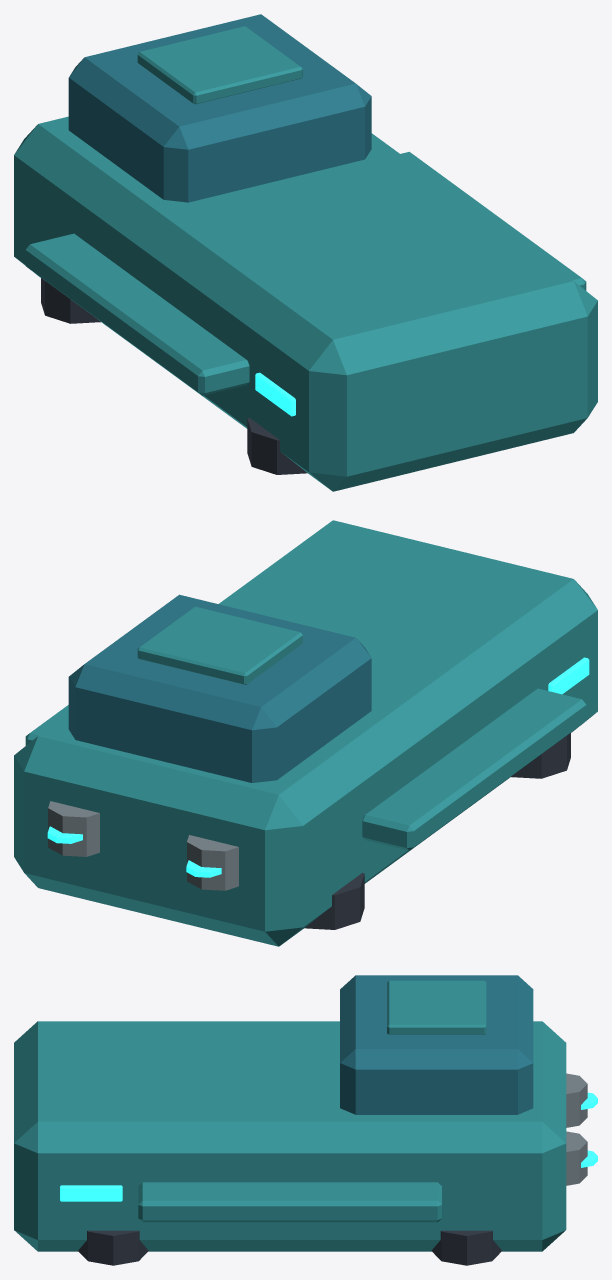
File: vehicles_032_seed11.glb
3 renders of one model, top to bottom at view 1: azimuth 30°, elevation 25°; view 2: azimuth 150°, elevation 25°; view 3: azimuth 270°, elevation 25°, orthographic. The views are drawn at different scales.
Parts seen in each view (by area): view 1: vehicles_032_seed11; view 2: vehicles_032_seed11; view 3: vehicles_032_seed11.
Boxes of the visible parts, bbox=[...] form: vehicles_032_seed11: bbox=[14, 14, 597, 491]; vehicles_032_seed11: bbox=[14, 520, 597, 946]; vehicles_032_seed11: bbox=[14, 975, 597, 1265].
Bounding box in the file's own units: 2.57 × 1.49 × 3.92.
